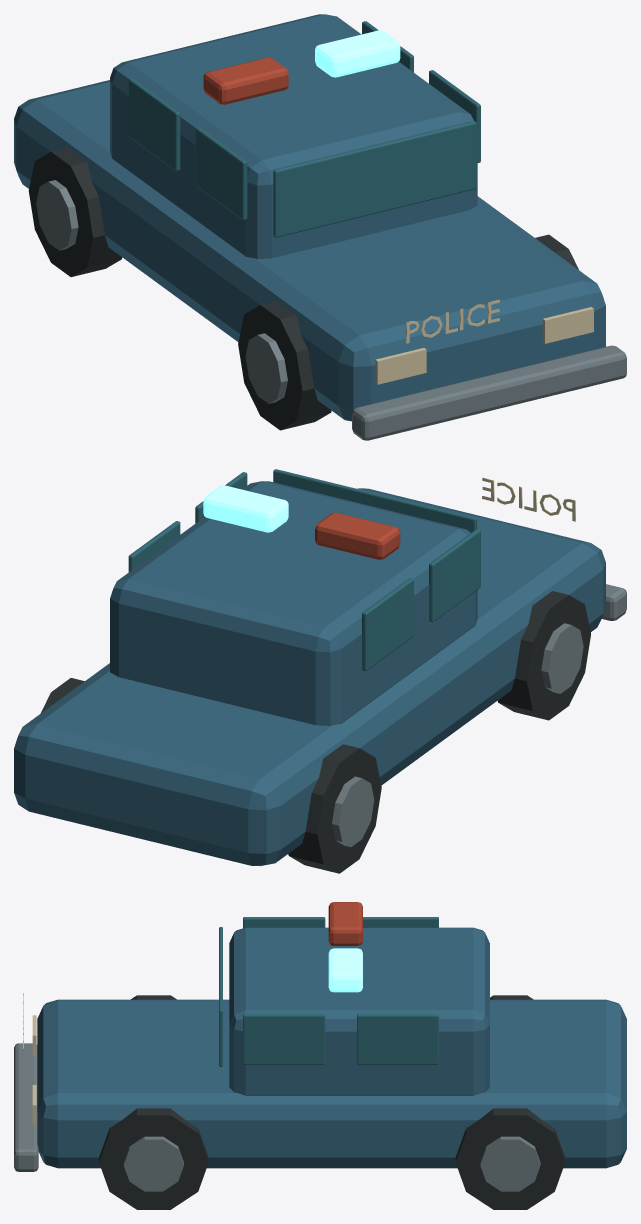
Rendered from police-car.glb.
The picture shows the model from 3 angles, top to bottom: view 1: azimuth 30°, elevation 25°; view 2: azimuth 150°, elevation 25°; view 3: azimuth 270°, elevation 25°; orthographic projection. The views are drawn at different scales.
Parts seen in each view (by area): view 1: police-car.001; view 2: police-car.001; view 3: police-car.001.
Boxes of the visible parts, box(x1,y1,x2,y2) form: police-car.001: box(14, 14, 626, 440); police-car.001: box(14, 469, 626, 873); police-car.001: box(14, 902, 626, 1209).
Size of the model in its own units: 2.17 by 1.71 by 4.47.
